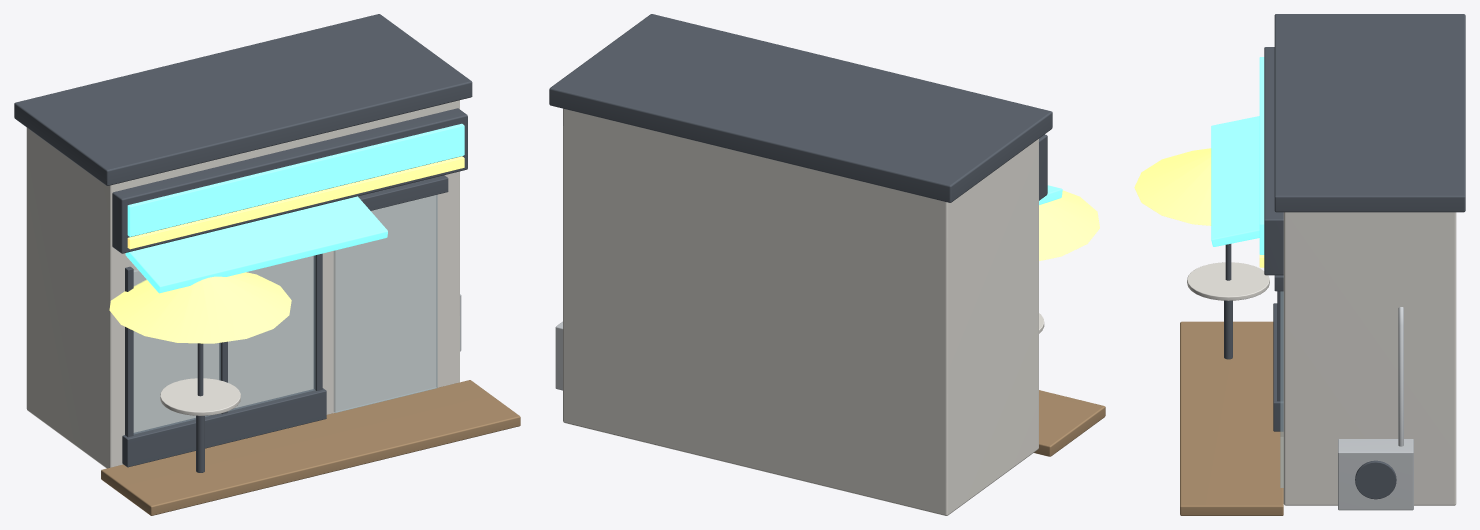
Rendered from convenience_storefront_v9.glb.
The picture shows the model from 3 angles, left to right: view 1: azimuth 30°, elevation 25°; view 2: azimuth 150°, elevation 25°; view 3: azimuth 270°, elevation 25°; orthographic projection. The views are drawn at different scales.
Visible parts, largest first — view 1: GEO_MainStoreBody, GEO_RoofParapetCap, GEO_FrontTimberDeck, GEO_AutoSlidingDoorGlass, GEO_ShowWindowGlassLeft, GEO_StripedAwningCanopy, GEO_SignboardCyanBand, GEO_StoreParasolCanopy, GEO_SignboardBackHousing, GEO_WindowSillBase, GEO_SignboardOrangeStripe, GEO_DeckTableTop (+3 smaller); view 2: GEO_MainStoreBody, GEO_RoofParapetCap, GEO_StoreParasolCanopy, GEO_FrontTimberDeck; view 3: GEO_MainStoreBody, GEO_RoofParapetCap, GEO_FrontTimberDeck, GEO_StripedAwningCanopy, GEO_StoreParasolCanopy, GEO_SideHvacUnit, GEO_SignboardBackHousing, GEO_DeckTableTop, GEO_SideHvacFan, GEO_SignboardCyanBand, GEO_SideHvacConduit, GEO_WindowSillBase (+3 smaller).
Part boxes in pixels (<box>): GEO_MainStoreBody: <box>26,100,459,468</box>; GEO_RoofParapetCap: <box>14,14,472,185</box>; GEO_FrontTimberDeck: <box>101,380,520,515</box>; GEO_AutoSlidingDoorGlass: <box>334,195,437,412</box>; GEO_ShowWindowGlassLeft: <box>134,255,315,433</box>; GEO_StripedAwningCanopy: <box>125,196,387,293</box>; GEO_SignboardCyanBand: <box>127,123,464,236</box>; GEO_StoreParasolCanopy: <box>109,272,291,343</box>; GEO_SignboardBackHousing: <box>112,108,467,253</box>; GEO_WindowSillBase: <box>122,388,326,467</box>; GEO_SignboardOrangeStripe: <box>127,156,464,249</box>; GEO_DeckTableTop: <box>160,378,240,415</box>; GEO_MainStoreBody: <box>563,108,1038,515</box>; GEO_RoofParapetCap: <box>549,14,1052,202</box>; GEO_StoreParasolCanopy: <box>1039,190,1099,260</box>; GEO_FrontTimberDeck: <box>1034,390,1105,456</box>; GEO_MainStoreBody: <box>1283,212,1456,505</box>; GEO_RoofParapetCap: <box>1274,14,1465,212</box>; GEO_FrontTimberDeck: <box>1180,321,1283,515</box>; GEO_StripedAwningCanopy: <box>1211,116,1259,246</box>; GEO_StoreParasolCanopy: <box>1134,148,1211,225</box>; GEO_SideHvacUnit: <box>1338,439,1413,510</box>; GEO_SignboardBackHousing: <box>1264,47,1283,275</box>; GEO_DeckTableTop: <box>1187,262,1269,300</box>; GEO_SideHvacFan: <box>1355,460,1396,499</box>; GEO_SignboardCyanBand: <box>1259,57,1264,254</box>; GEO_SideHvacConduit: <box>1398,307,1403,446</box>; GEO_WindowSillBase: <box>1273,303,1283,431</box>.
Size of the model in its own units: 4.08 by 3.06 by 2.88.
